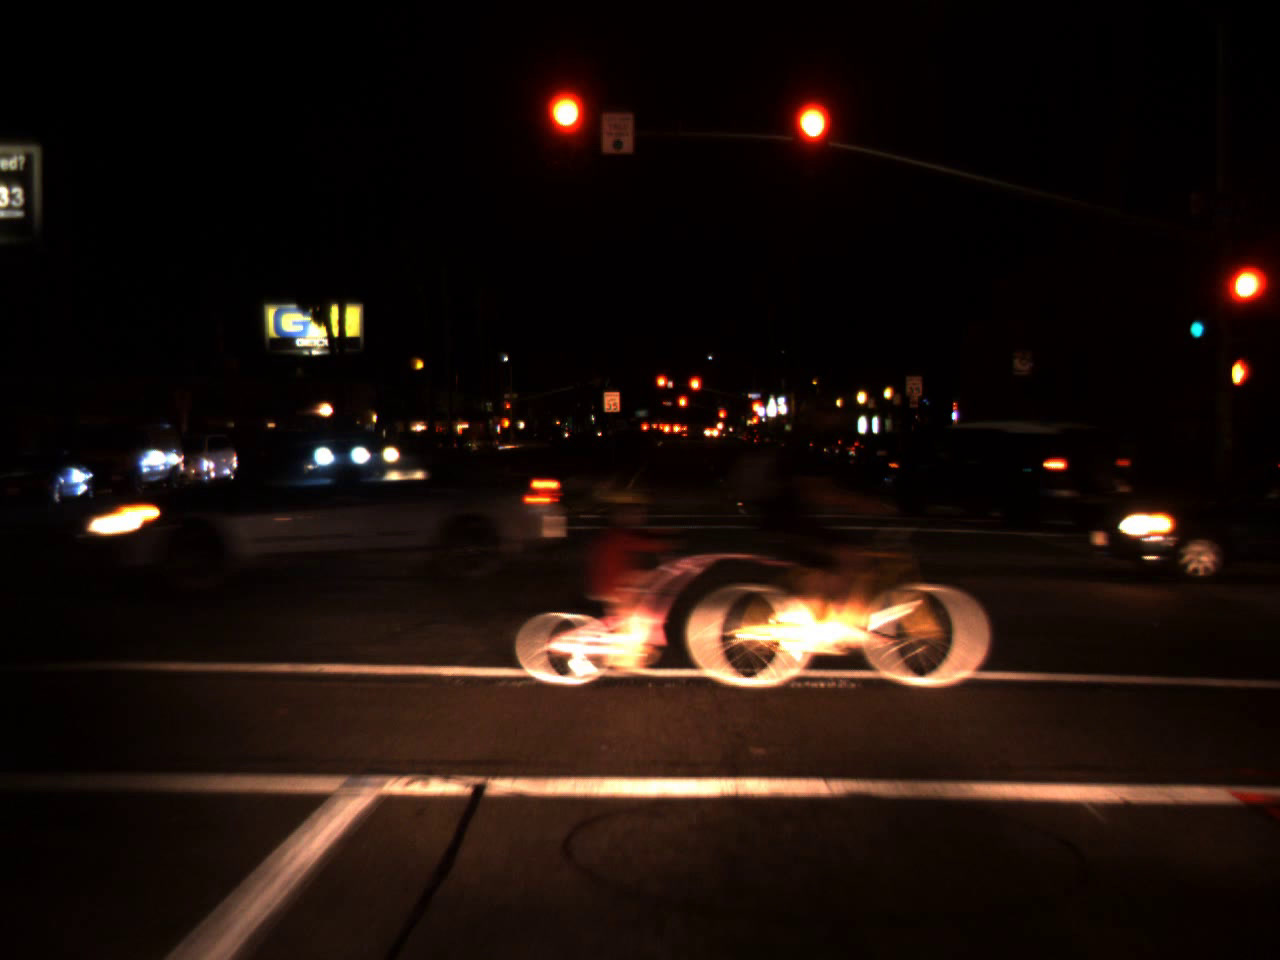stop: (1222, 267, 1265, 334), (792, 103, 829, 178), (549, 94, 585, 169), (687, 375, 702, 407), (654, 374, 670, 398), (677, 394, 689, 418), (749, 400, 762, 421), (717, 408, 727, 426), (505, 403, 511, 413)
